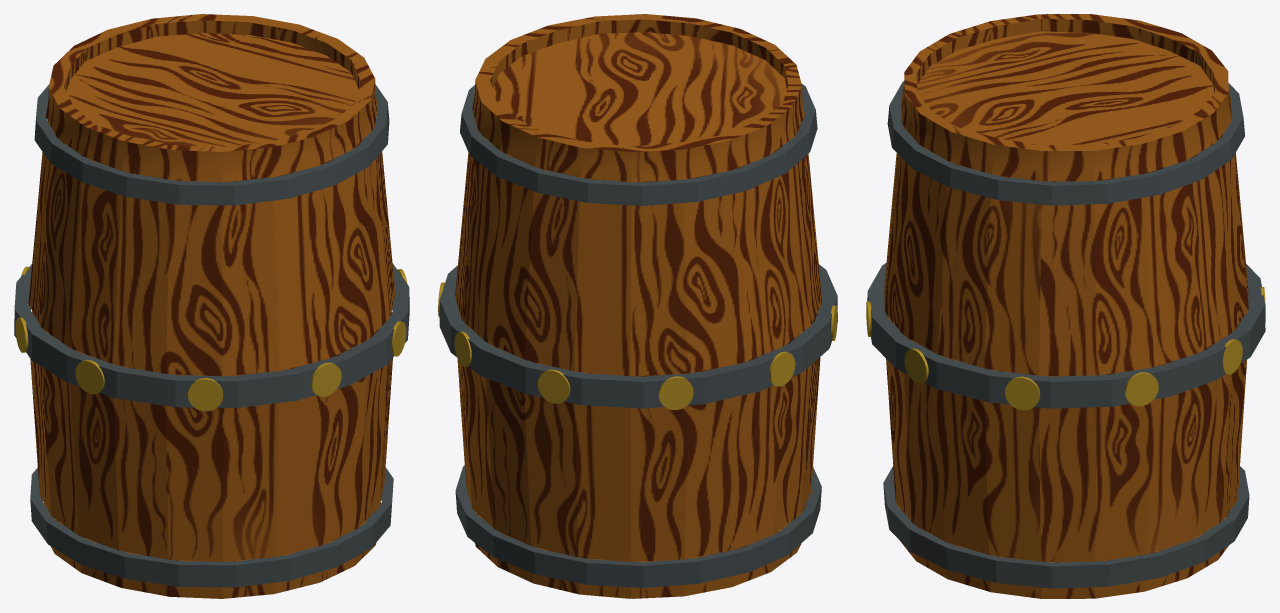
File: Barrel.glb
3 views of the same model, side by side, from view 1: azimuth 30°, elevation 25°; view 2: azimuth 150°, elevation 25°; view 3: azimuth 270°, elevation 25° (orthographic).
Parts seen in each view (by area): view 1: polySurface5, polySurface3, polySurface4, polySurface1, pCylinder12; view 2: polySurface5, polySurface3, polySurface4, polySurface1, pCylinder12; view 3: polySurface5, polySurface3, polySurface4, polySurface1, pCylinder12.
Boxes of the visible parts, box(x1,y1,x2,y2) form: polySurface5: box(28, 14, 395, 598); polySurface3: box(14, 263, 409, 407); polySurface4: box(30, 467, 393, 587); polySurface1: box(34, 84, 389, 205); pCylinder12: box(15, 266, 407, 411); polySurface5: box(455, 14, 822, 598); polySurface3: box(439, 264, 837, 408); polySurface4: box(455, 465, 821, 587); polySurface1: box(460, 83, 817, 205); pCylinder12: box(438, 263, 837, 409); polySurface5: box(884, 14, 1248, 598); polySurface3: box(867, 262, 1265, 408); polySurface4: box(883, 466, 1249, 588); polySurface1: box(887, 81, 1244, 205); pCylinder12: box(866, 287, 1265, 410).
Bounding box in the file's own units: 2.96 × 3.65 × 2.96.
5 materials, 5 textured.
